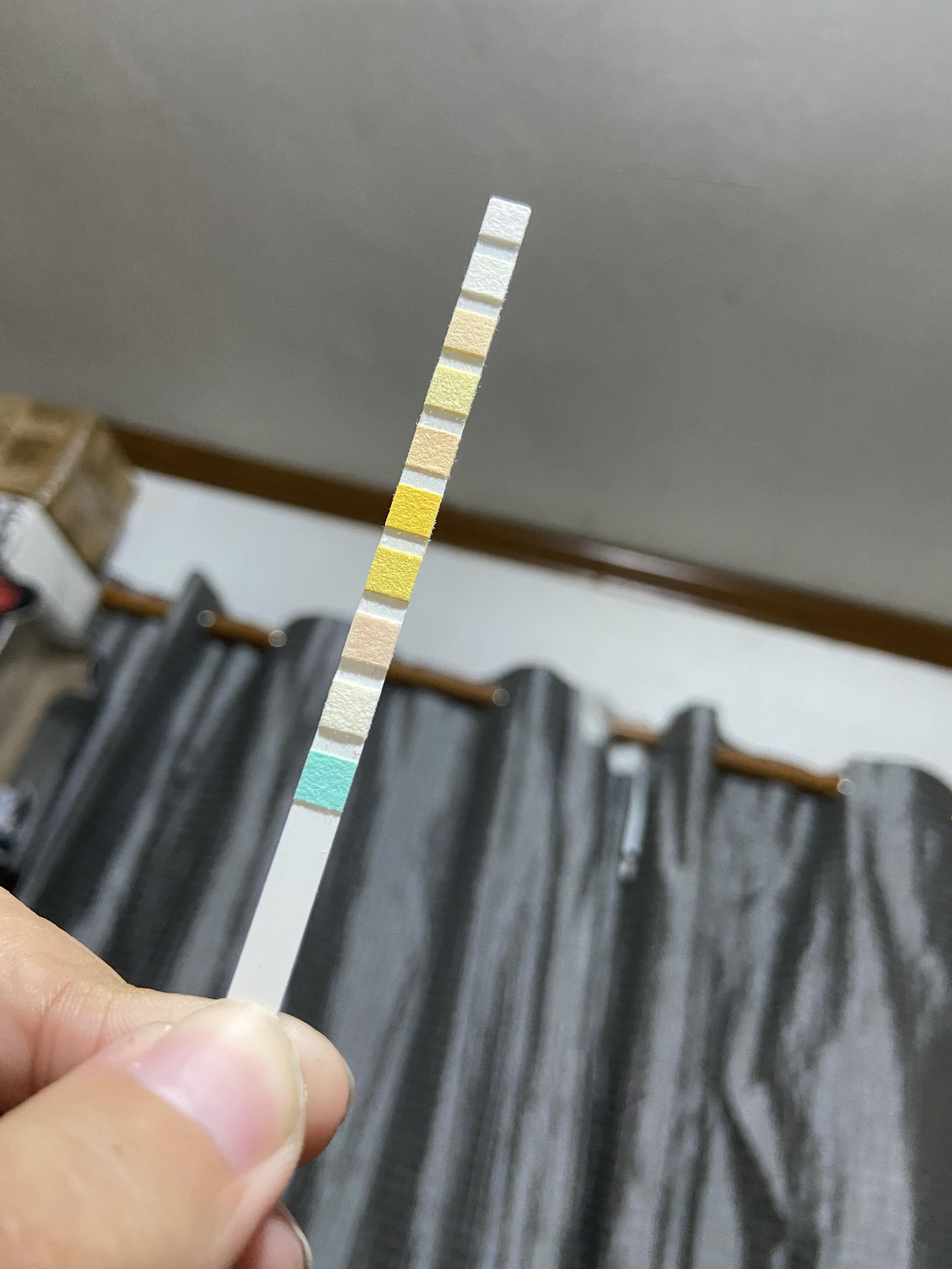Bilirubin: (328, 694, 371, 727)
Blood: (396, 492, 433, 529)
Glucose: (306, 760, 346, 801)
Ketone: (353, 621, 392, 659)
Leukocytes: (487, 207, 524, 235)
Nitrite: (469, 262, 505, 292)
Protein: (433, 374, 470, 406)
SpGravity: (373, 559, 413, 589)
Urobilinogen: (452, 315, 487, 349)
pH: (415, 433, 451, 467)
strip: (237, 196, 533, 984)
